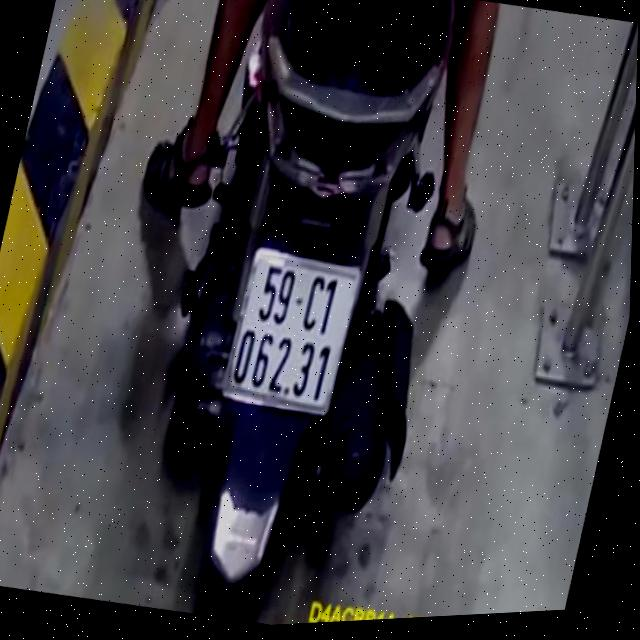motorcycle: (102, 0, 519, 634)
plate: (218, 240, 361, 417)
